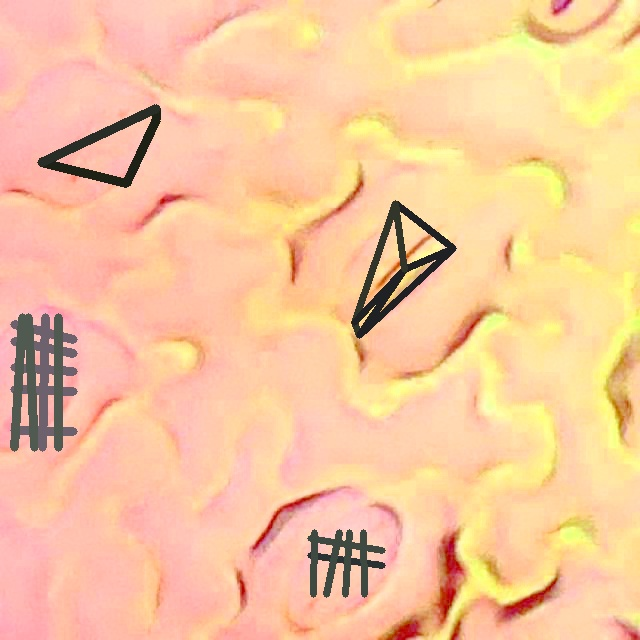close: (37, 104, 160, 187), (10, 313, 77, 451), (308, 530, 385, 597)
open: (351, 200, 456, 338)
